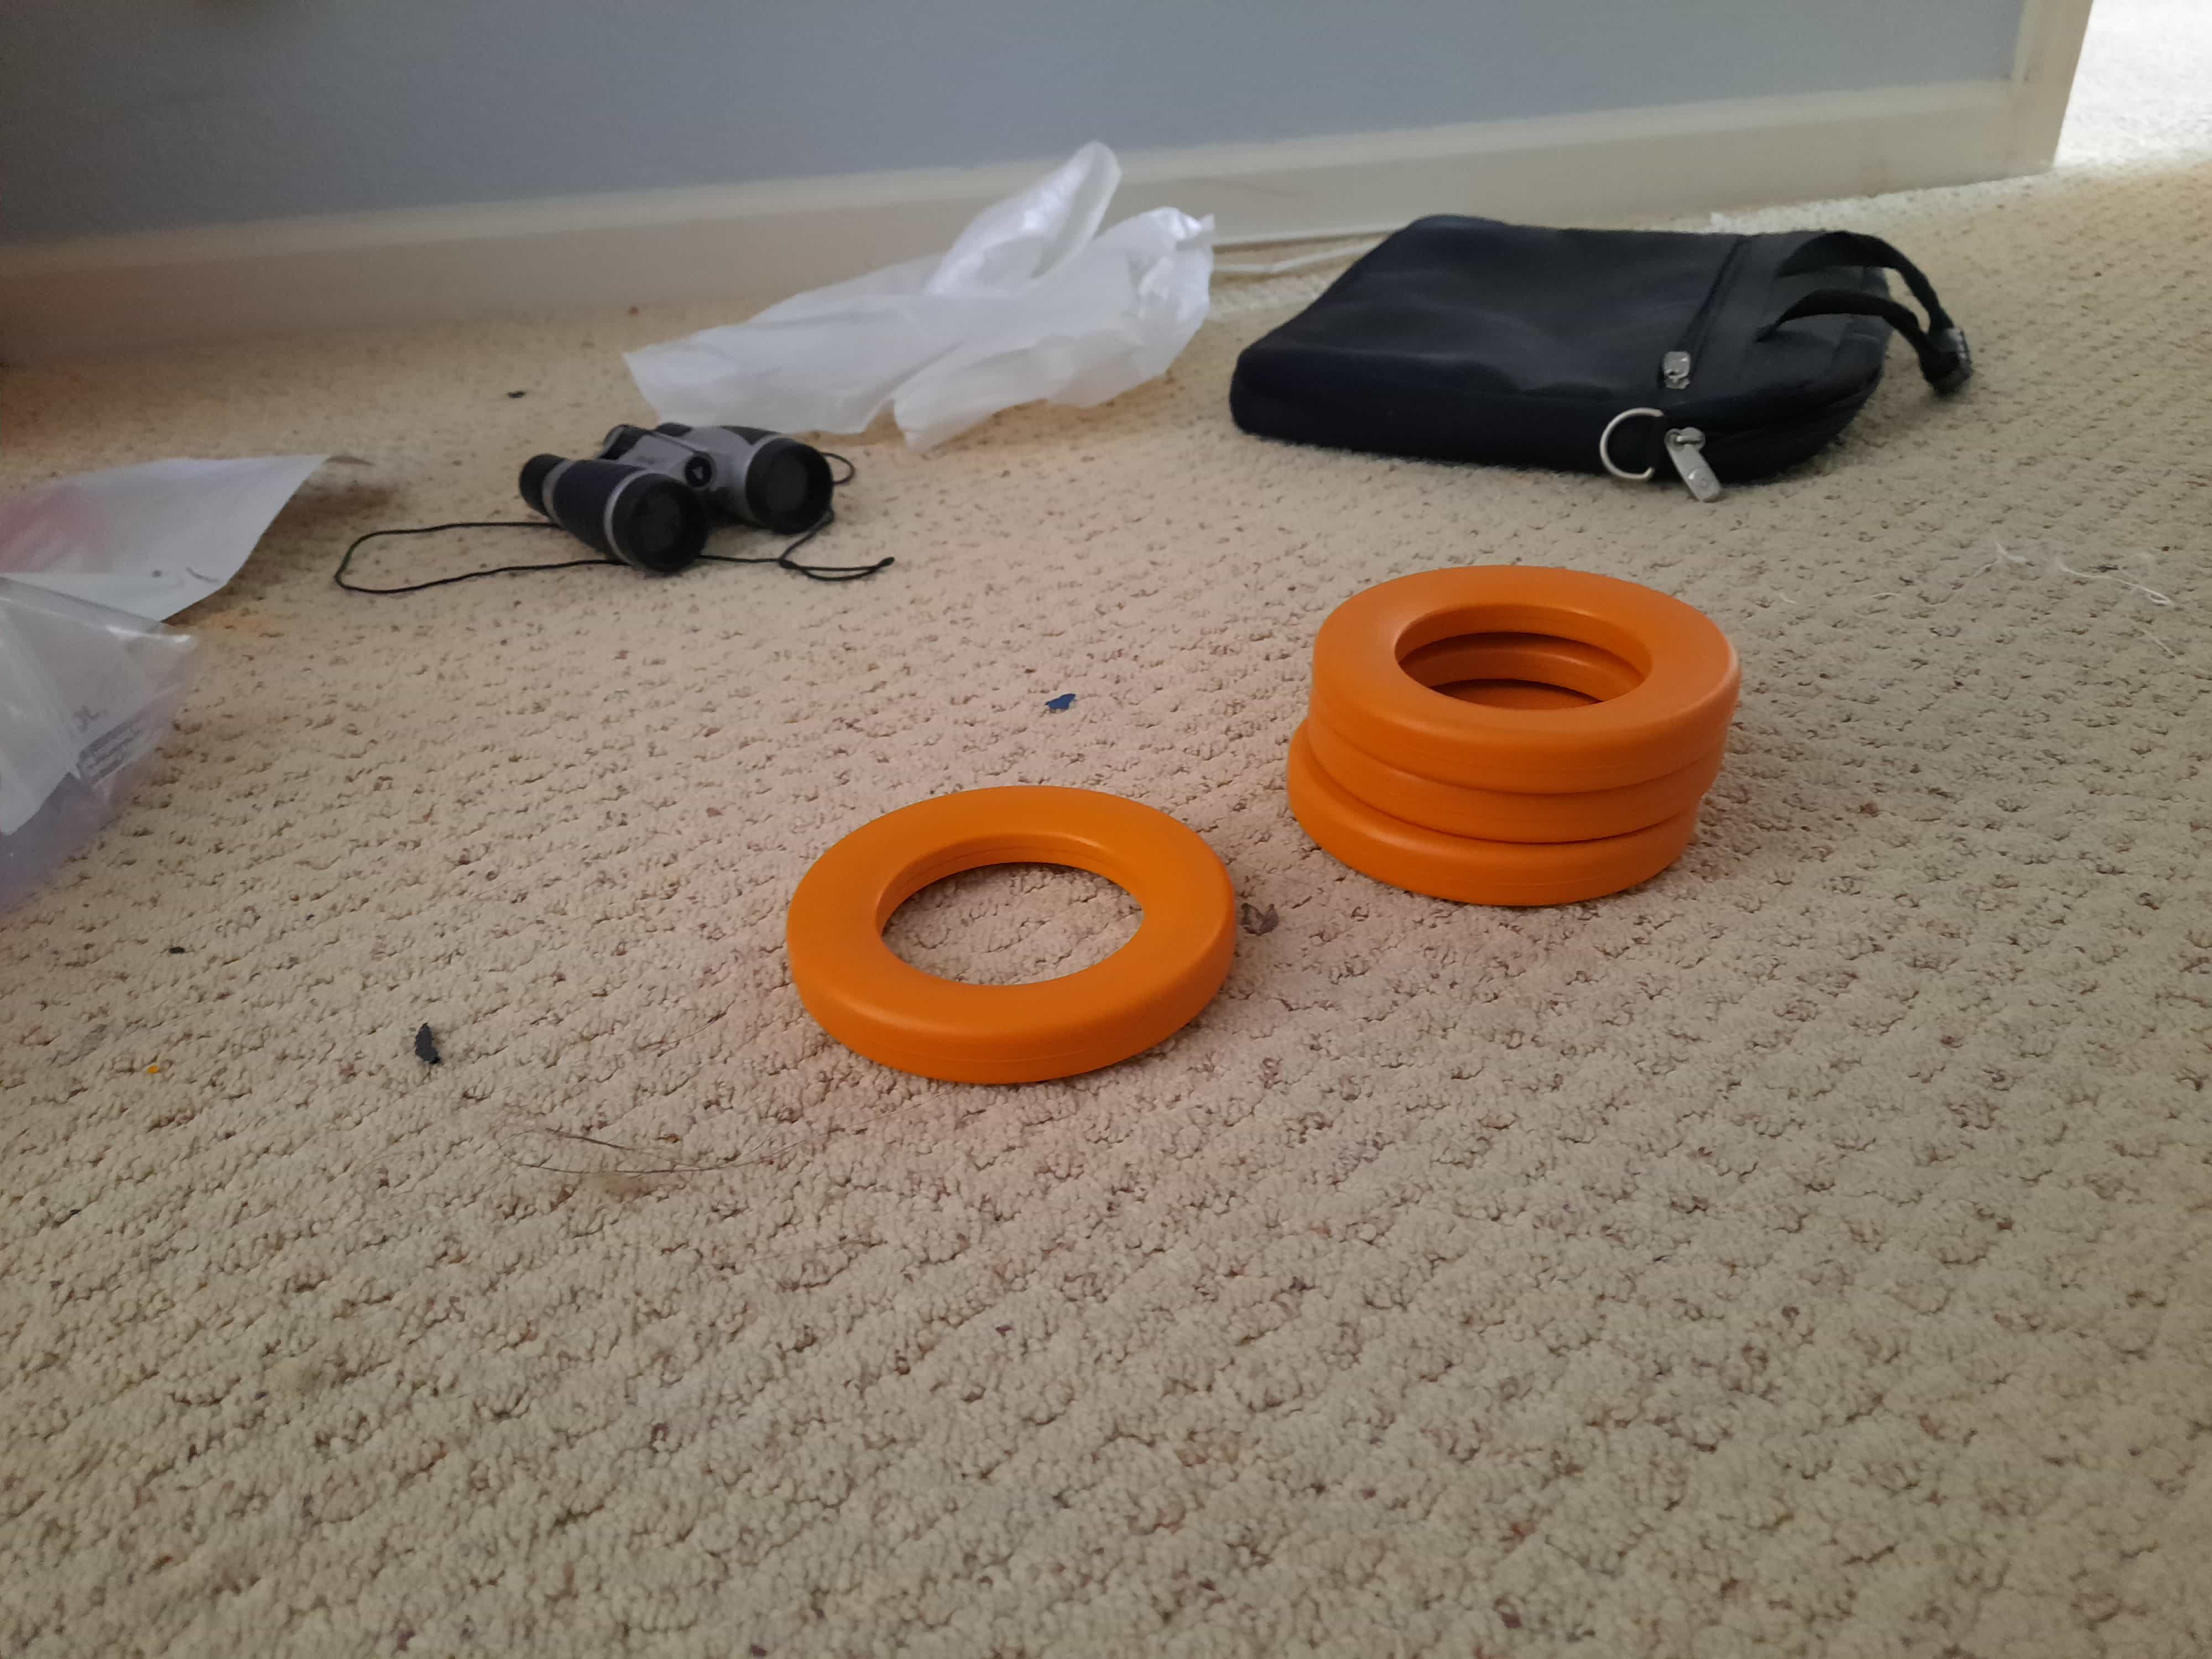FourStack: (1292, 592, 1733, 901)
OneStack: (766, 789, 1233, 1066)
